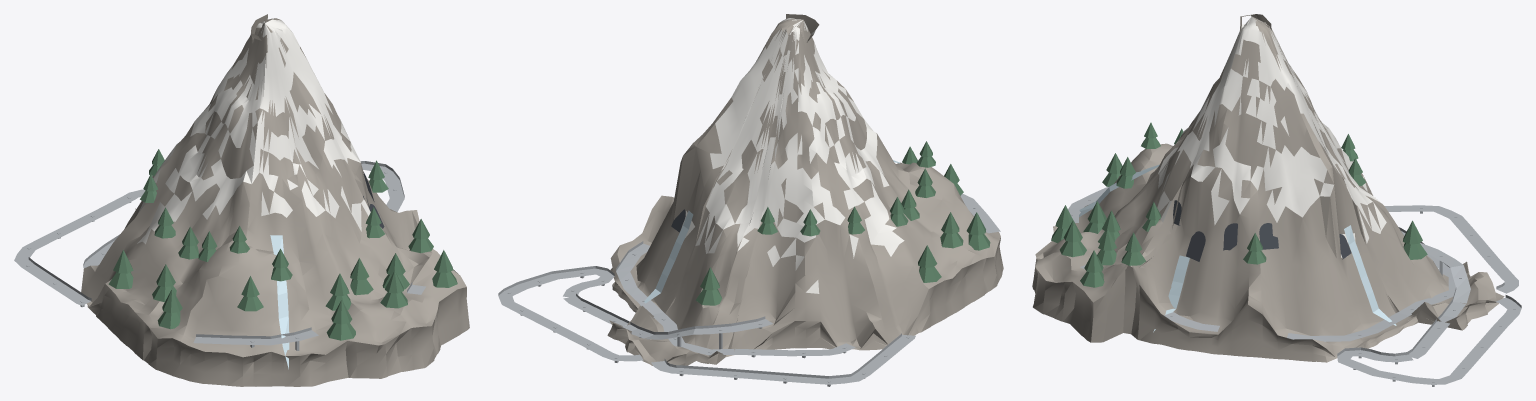
The picture shows the model from 3 angles, left to right: view 1: azimuth 30°, elevation 25°; view 2: azimuth 150°, elevation 25°; view 3: azimuth 270°, elevation 25°; orthographic projection. The views are drawn at different scales.
Parts seen in each view (by area): view 1: matterhorn-bobsleds-disneyland; view 2: matterhorn-bobsleds-disneyland; view 3: matterhorn-bobsleds-disneyland.
Boxes of the visible parts, box(x1,y1,x2,y2) form: matterhorn-bobsleds-disneyland: box(14, 14, 469, 386); matterhorn-bobsleds-disneyland: box(498, 14, 1003, 386); matterhorn-bobsleds-disneyland: box(1032, 14, 1521, 386).
Bounding box in the file's own units: 64.39 × 44.8 × 74.15.
